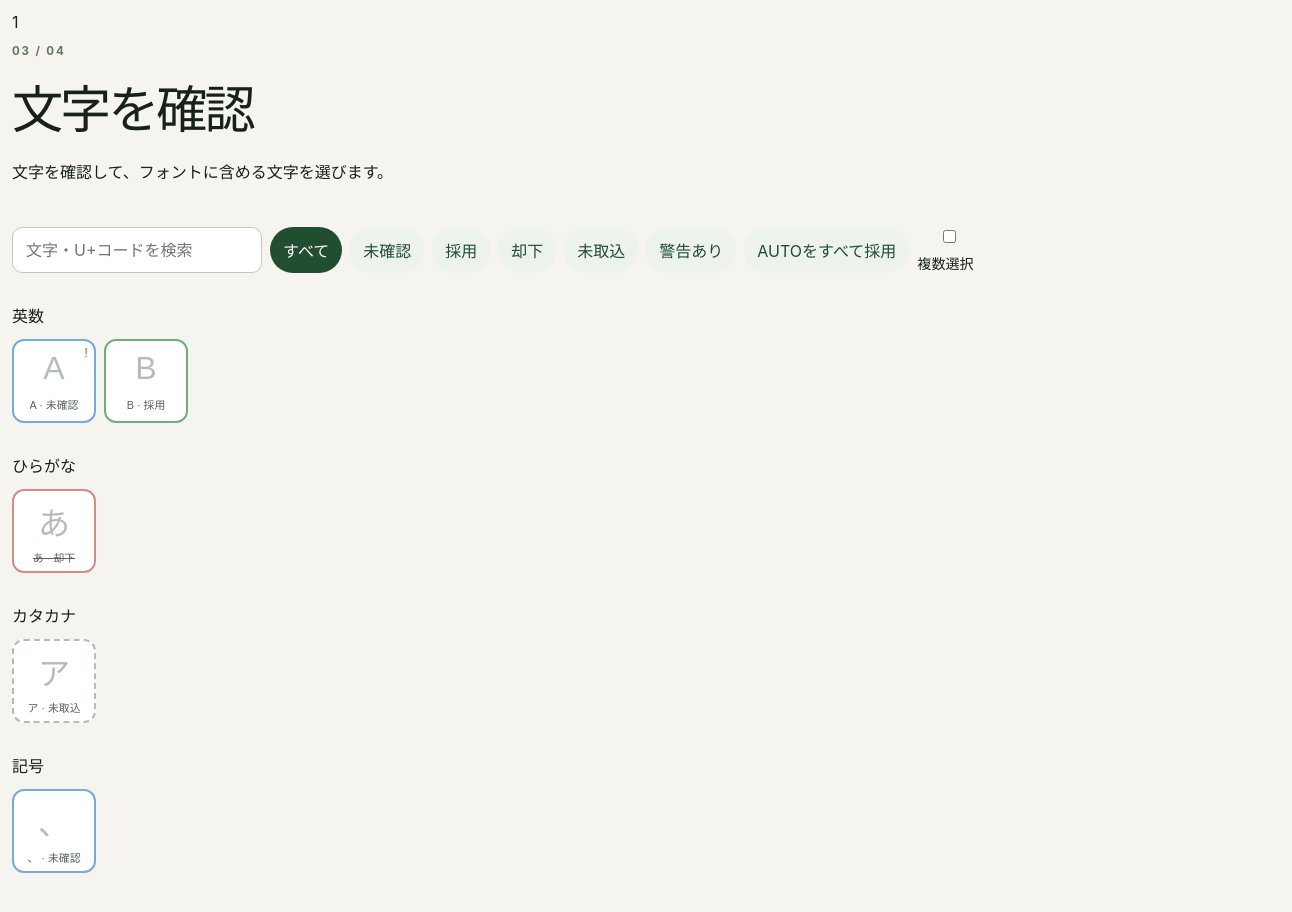
it: batches checkbox selections into one 却下 request and clears them
Expected: the button with aria-label "A 未確認" is shown, [12,339,96,423]
Click the checkbox labelled "複数選択".
click(949, 236)  # box [921,230,978,243]
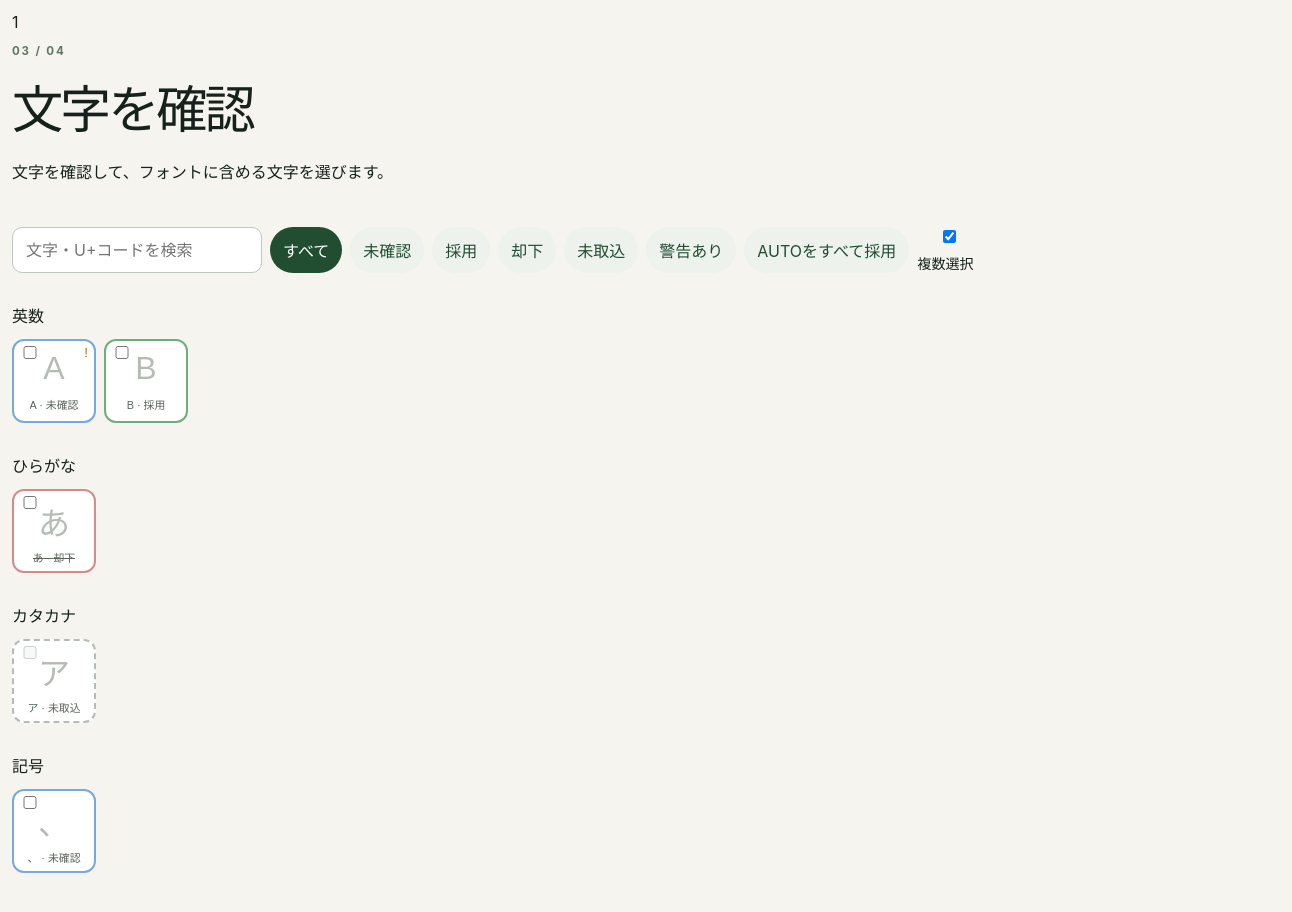
Click the checkbox named "A を選択".
click(30, 352)  # box [20,346,40,359]
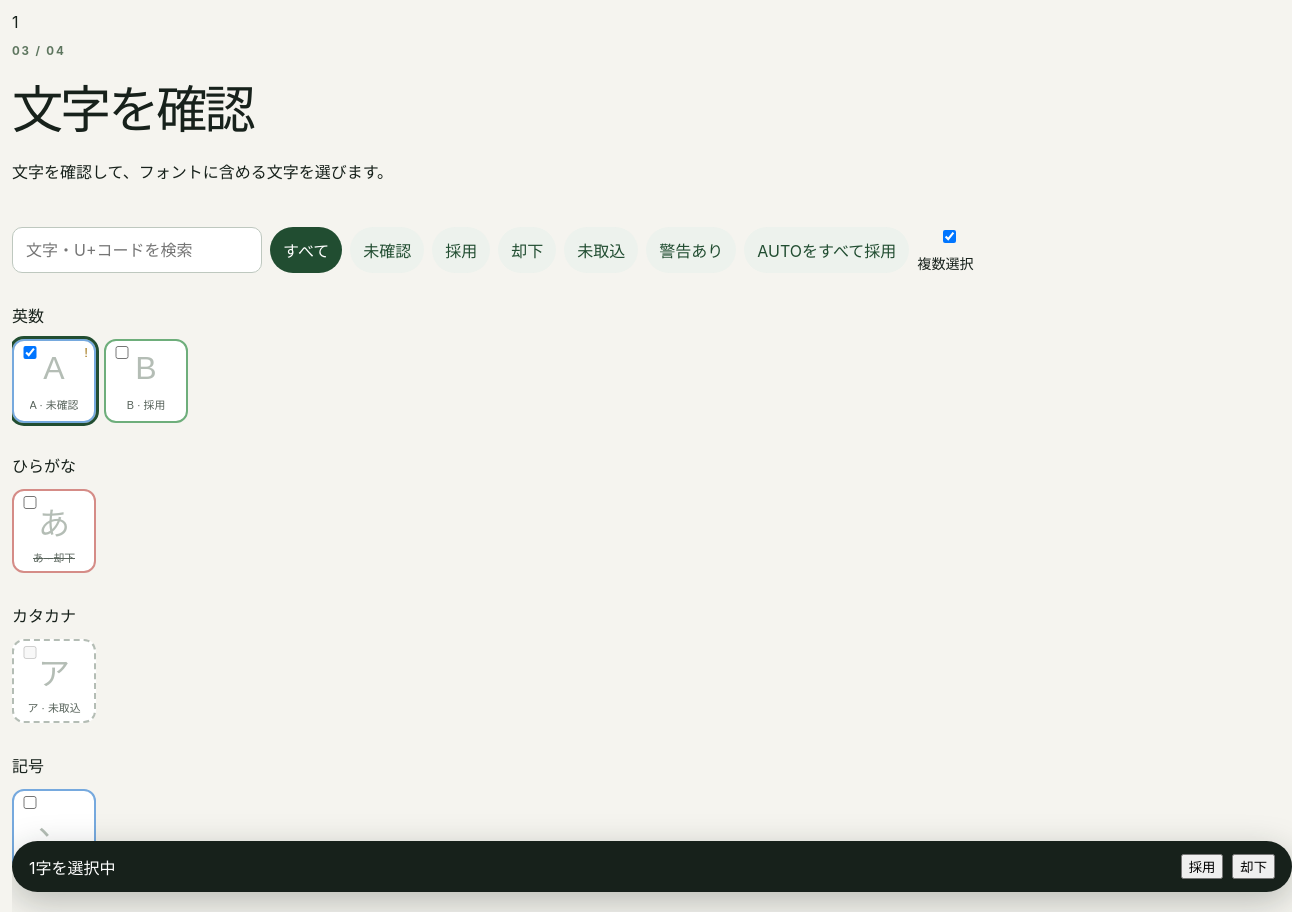
Click the checkbox named "あ を選択".
click(30, 502)  # box [20,496,40,509]
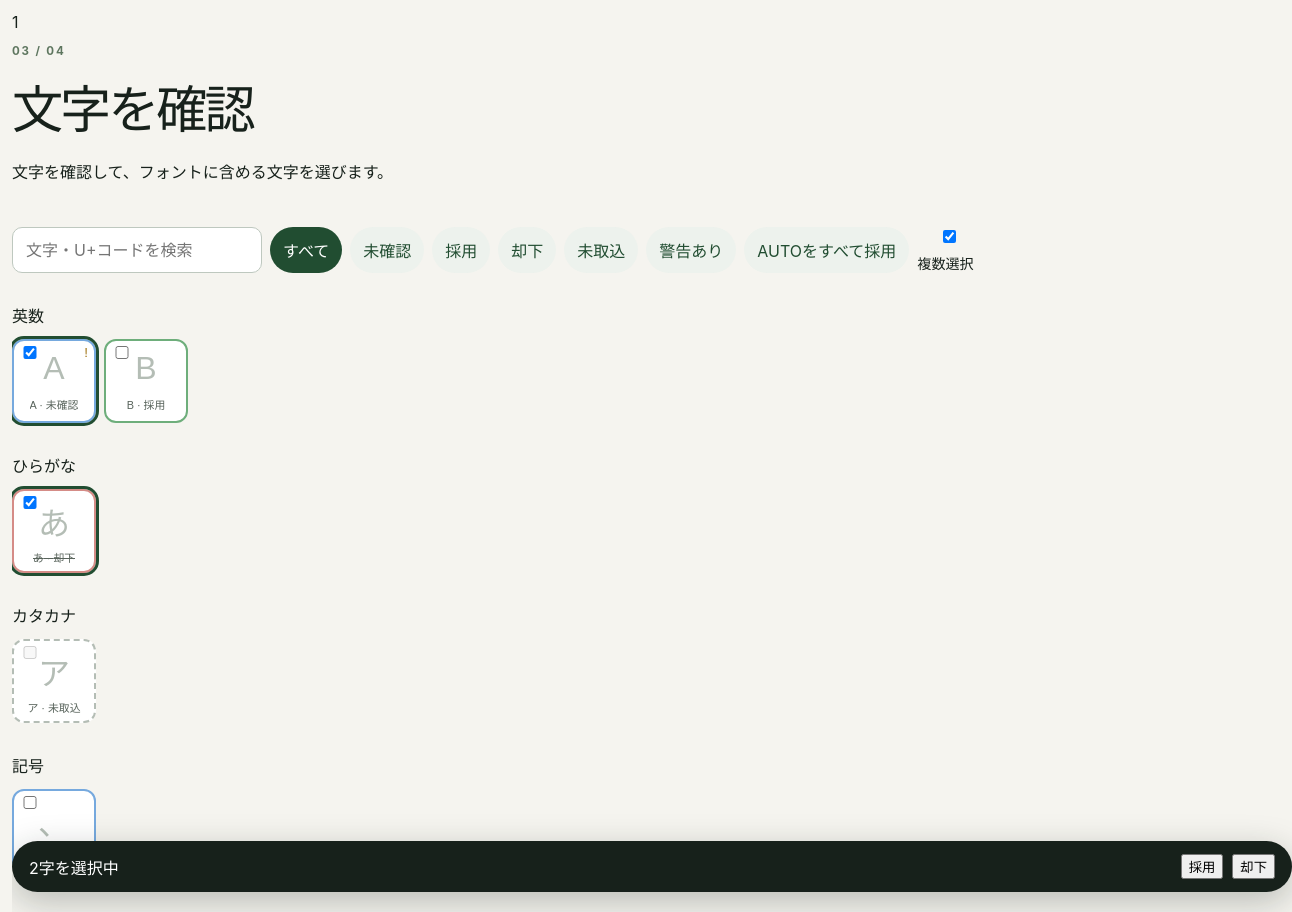
Click the button with aria-label "選択した文字を却下".
click(1254, 866)  # box [1232,854,1275,879]
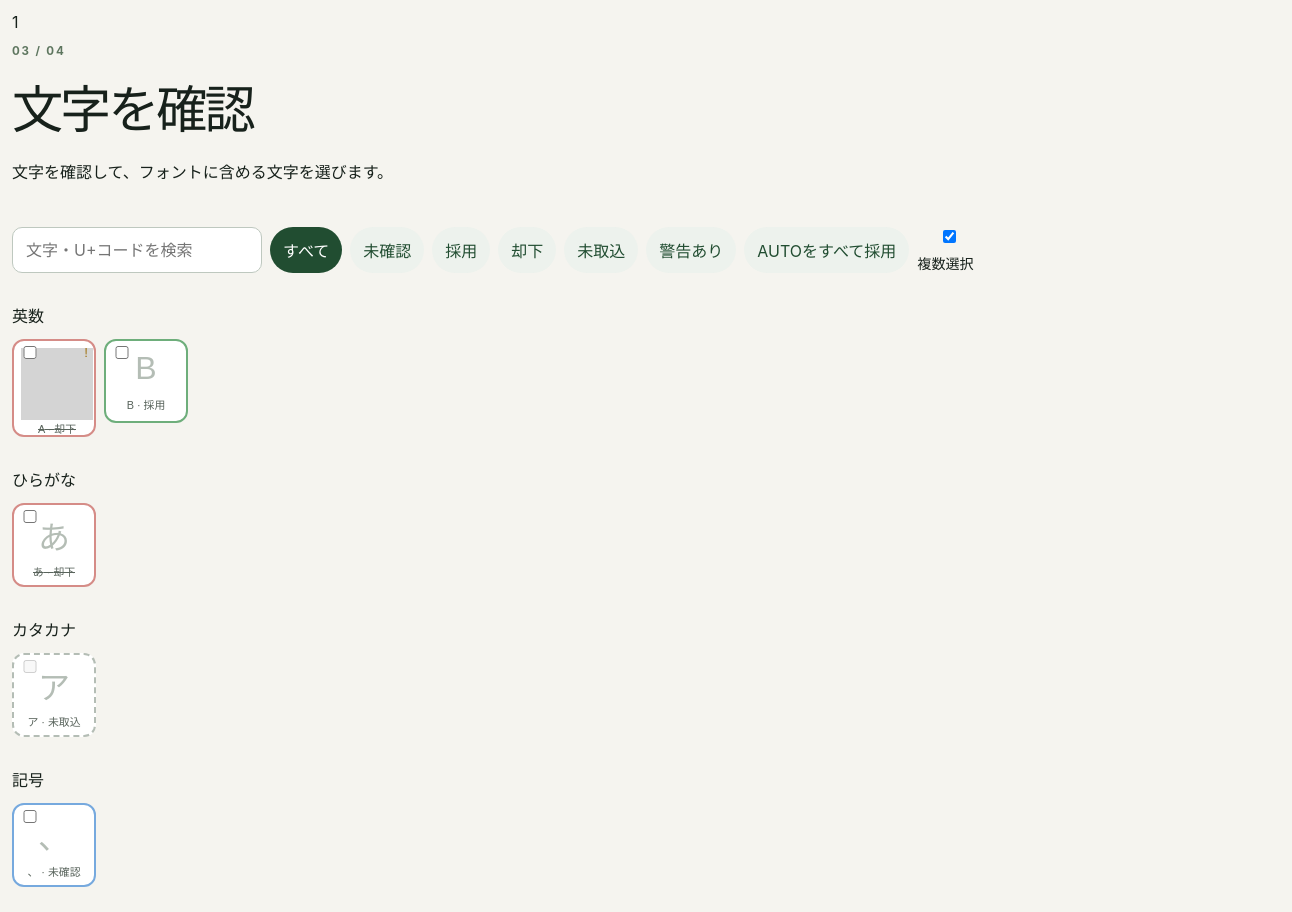
Result: the text "2字を選択中" is gone
